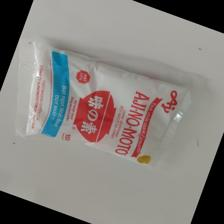Ajinomoto: (24, 37, 190, 177)
